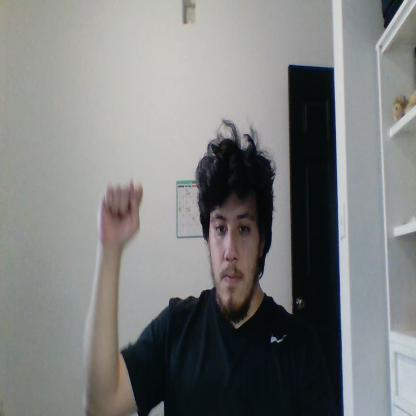T: (98, 180, 142, 245)
